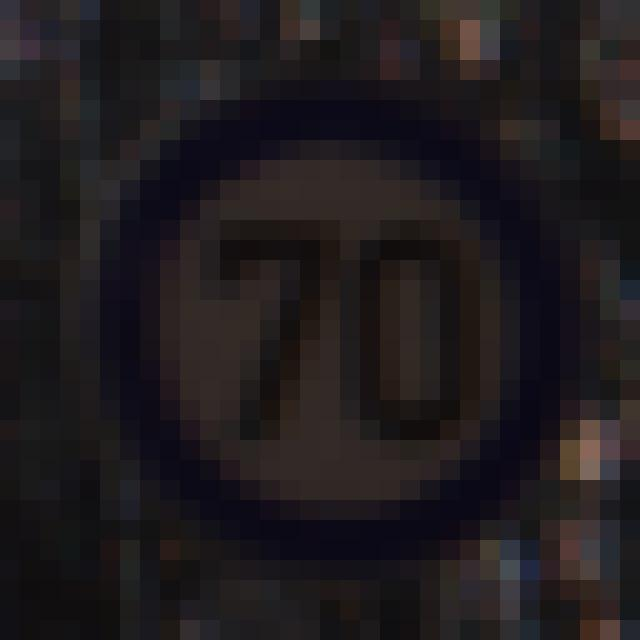SPEED LIMIT 70: (112, 111, 578, 555)
